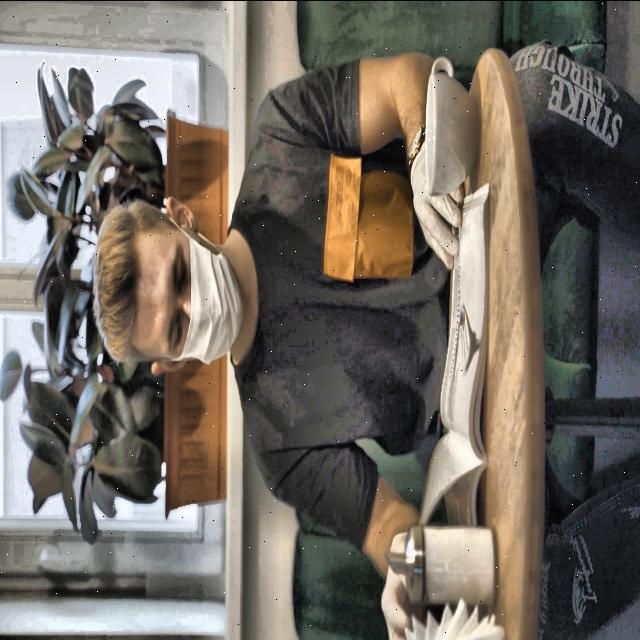gloved: (397, 147, 468, 261)
